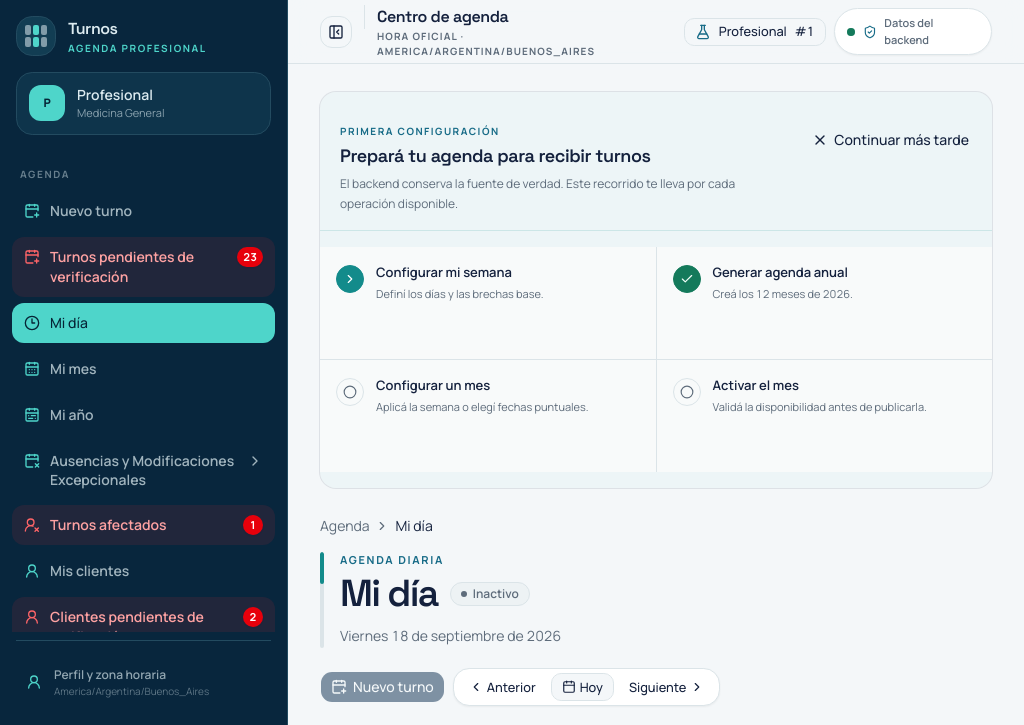
Routing & Shell Navigation › despliega las opciones del menú de ausencias y modificaciones sin navegar
Expected: the link "Registrar Ausencias" is not shown
Click the button "Ausencias y Modificaciones Excepcionales": x=144, y=470 [12,440,275,499]
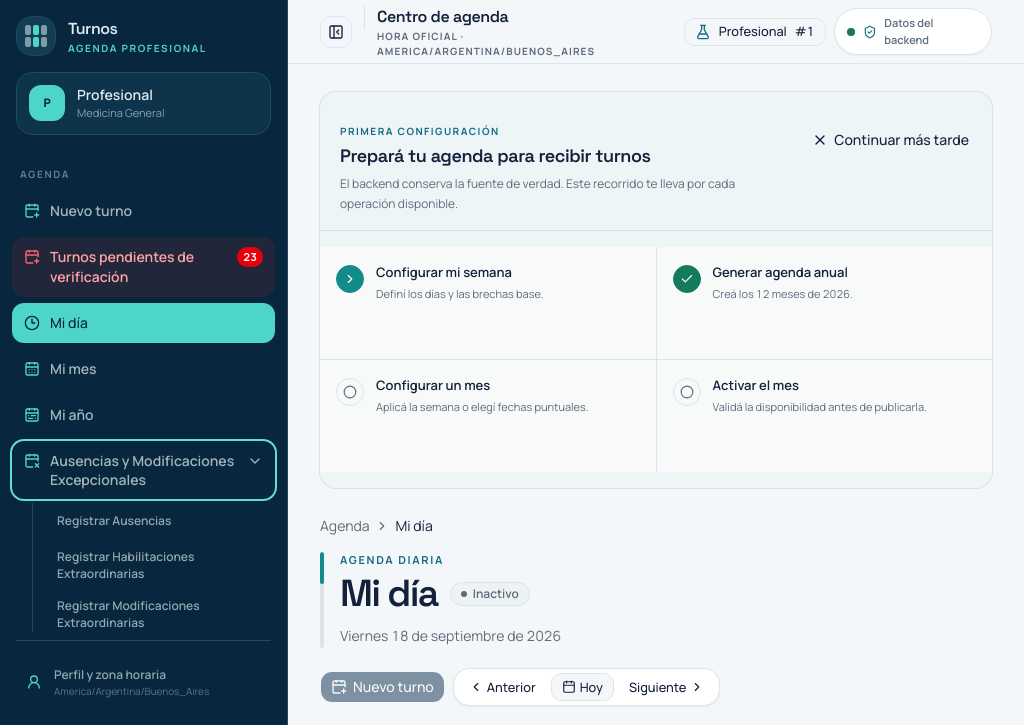
Result: the button "Ausencias y Modificaciones Excepcionales" is expanded at [12,440,275,499]
Result: the link "Registrar Ausencias" is shown at [57,512,171,529]
Result: the link "Registrar Habilitaciones Extraordinarias" is shown at [57,548,194,582]
